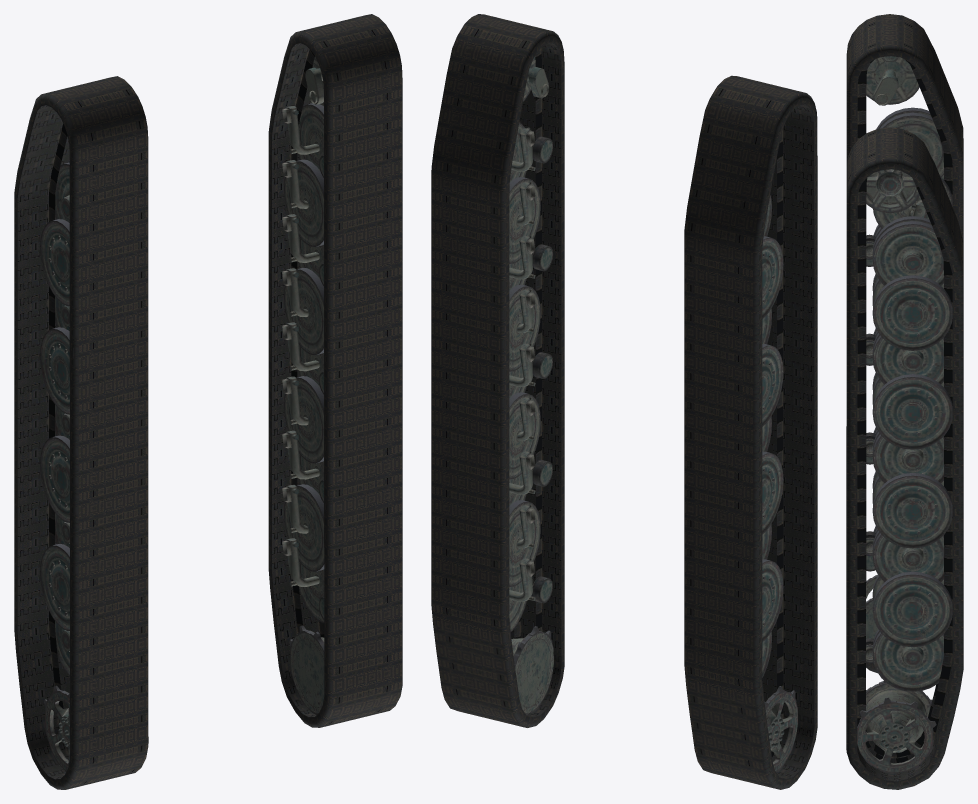
The model's file is Chassis.glb.
3 renders of one model, left to right at view 1: azimuth 30°, elevation 25°; view 2: azimuth 150°, elevation 25°; view 3: azimuth 270°, elevation 25°, orthographic. The views are drawn at different scales.
Parts seen in each view (by area): view 1: set_5_group_0, set_7_group_0, set_1_group_0, set_3_group_0, set_4_group_0, set_6_group_0, set_0_group_0; view 2: set_5_group_0, set_7_group_0, set_1_group_0, set_3_group_0, set_0_group_0, set_4_group_0, set_6_group_0; view 3: set_1_group_0, set_7_group_0, set_5_group_0, set_3_group_0, set_0_group_0, set_6_group_0, set_4_group_0.
Part boxes in pixels (bbox=[...]): set_5_group_0: bbox=[14, 76, 148, 789]; set_7_group_0: bbox=[268, 14, 402, 727]; set_1_group_0: bbox=[282, 56, 324, 714]; set_3_group_0: bbox=[40, 162, 69, 771]; set_4_group_0: bbox=[69, 149, 148, 246]; set_6_group_0: bbox=[324, 88, 402, 184]; set_0_group_0: bbox=[282, 107, 324, 622]; set_5_group_0: bbox=[684, 75, 817, 789]; set_7_group_0: bbox=[431, 14, 564, 727]; set_1_group_0: bbox=[509, 56, 553, 714]; set_3_group_0: bbox=[762, 195, 797, 772]; set_0_group_0: bbox=[509, 130, 535, 631]; set_4_group_0: bbox=[770, 129, 817, 215]; set_6_group_0: bbox=[519, 71, 564, 153]; set_1_group_0: bbox=[857, 169, 952, 773]; set_7_group_0: bbox=[846, 127, 963, 789]; set_5_group_0: bbox=[846, 14, 963, 673]; set_3_group_0: bbox=[866, 56, 952, 638]; set_0_group_0: bbox=[872, 204, 943, 691]; set_6_group_0: bbox=[846, 194, 866, 280]; set_4_group_0: bbox=[846, 86, 866, 165].
Size of the model in its own units: 3.51 by 7.05 by 1.19.
Materials: 8 (8 with a texture image).
